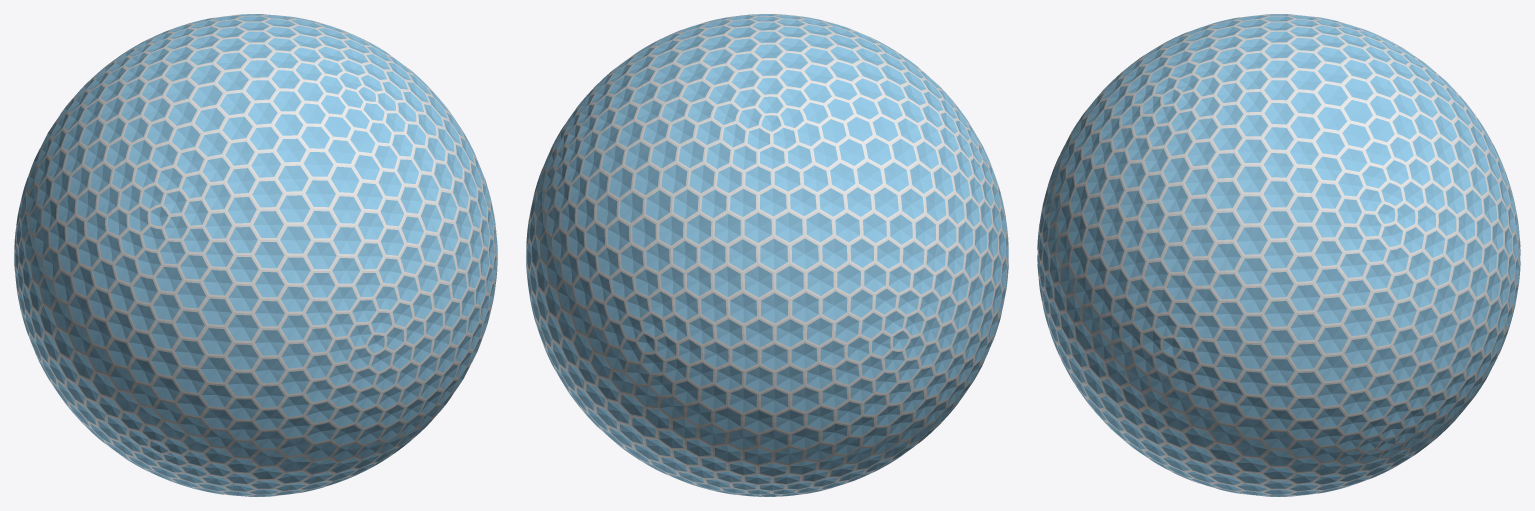
The model's file is ShieldSphere.fbx.
3 renders of one model, left to right at view 1: azimuth 30°, elevation 25°; view 2: azimuth 150°, elevation 25°; view 3: azimuth 270°, elevation 25°, orthographic.
Visible parts, largest first — view 1: pPlatonic1; view 2: pPlatonic1; view 3: pPlatonic1.
Boxes of the visible parts, x1,y1,x2,y2 form: pPlatonic1: (14, 14, 497, 496); pPlatonic1: (526, 14, 1008, 496); pPlatonic1: (1037, 14, 1520, 496).
Size of the model in its own units: 5.98 by 5.97 by 5.98.
